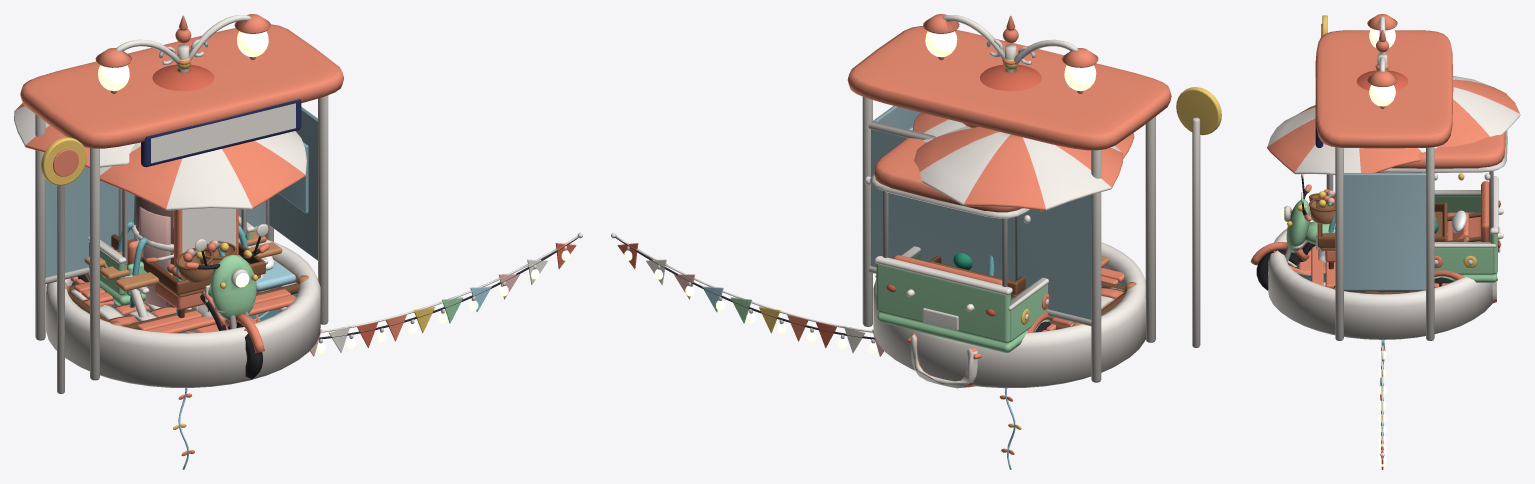
Rendered from details.glb.
3 renders of one model, left to right at view 1: azimuth 30°, elevation 25°; view 2: azimuth 150°, elevation 25°; view 3: azimuth 270°, elevation 25°, orthographic. The views are drawn at different scales.
Visible parts, largest first — view 1: bus_stop_mesh, fountain_mesh, umbrella_beach_mesh, rickshaw_mesh, label (×2), fruit_cart_mesh, street_lamp_double_mesh, notice_pillar_mesh, bench_picnic_mesh, bunting_mesh, charpai_mesh, bicycle_lean_mesh (+1 smaller); view 2: bus_stop_mesh, rickshaw_mesh, fruit_cart_mesh, fountain_mesh, street_lamp_double_mesh, bunting_mesh, string_lights_mesh, notice_pillar_mesh, rowboat_mesh, umbrella_beach_mesh, charpai_mesh; view 3: bus_stop_mesh, rickshaw_mesh, fountain_mesh, fruit_cart_mesh, umbrella_beach_mesh, street_lamp_double_mesh, bicycle_mesh, sun_lounger_mesh, bench_picnic_mesh, string_lights_mesh, notice_pillar_mesh, bunting_mesh (+1 smaller).
Boxes of the visible parts, left/top/right/bottom form: bus_stop_mesh: left=20, top=24, right=343, bottom=393; fountain_mesh: left=46, top=219, right=320, bottom=387; umbrella_beach_mesh: left=100, top=131, right=306, bottom=210; rickshaw_mesh: left=77, top=190, right=269, bottom=379; label (×2): left=151, top=103, right=295, bottom=252; fruit_cart_mesh: left=14, top=103, right=265, bottom=317; street_lamp_double_mesh: left=95, top=14, right=270, bottom=93; notice_pillar_mesh: left=134, top=58, right=238, bottom=310; bench_picnic_mesh: left=70, top=231, right=296, bottom=333; bunting_mesh: left=310, top=232, right=582, bottom=356; charpai_mesh: left=65, top=245, right=308, bottom=329; bicycle_lean_mesh: left=145, top=248, right=226, bottom=330; bus_stop_mesh: left=847, top=26, right=1221, bottom=382; rickshaw_mesh: left=864, top=131, right=1054, bottom=352; fruit_cart_mesh: left=906, top=126, right=1122, bottom=311; fountain_mesh: left=873, top=242, right=1145, bottom=388; street_lamp_double_mesh: left=923, top=14, right=1098, bottom=93; bunting_mesh: left=611, top=233, right=883, bottom=356; string_lights_mesh: left=615, top=237, right=877, bottom=353; notice_pillar_mesh: left=963, top=57, right=1041, bottom=127; rowboat_mesh: left=907, top=333, right=981, bottom=388; umbrella_beach_mesh: left=913, top=112, right=1134, bottom=159; charpai_mesh: left=1049, top=281, right=1136, bottom=329; bus_stop_mesh: left=1315, top=15, right=1453, bottom=340; rickshaw_mesh: left=1250, top=130, right=1507, bottom=290; fountain_mesh: left=1268, top=212, right=1493, bottom=339; fruit_cart_mesh: left=1316, top=76, right=1520, bottom=269; umbrella_beach_mesh: left=1267, top=105, right=1438, bottom=175; street_lamp_double_mesh: left=1367, top=14, right=1397, bottom=108; bicycle_mesh: left=1300, top=195, right=1447, bottom=261; sun_lounger_mesh: left=1298, top=210, right=1469, bottom=273; bench_picnic_mesh: left=1311, top=245, right=1448, bottom=288; string_lights_mesh: left=1378, top=347, right=1386, bottom=466; notice_pillar_mesh: left=1356, top=64, right=1420, bottom=172; bunting_mesh: left=1380, top=340, right=1384, bottom=469.
Size of the model in its own units: 5.79 by 4.37 by 2.83.
